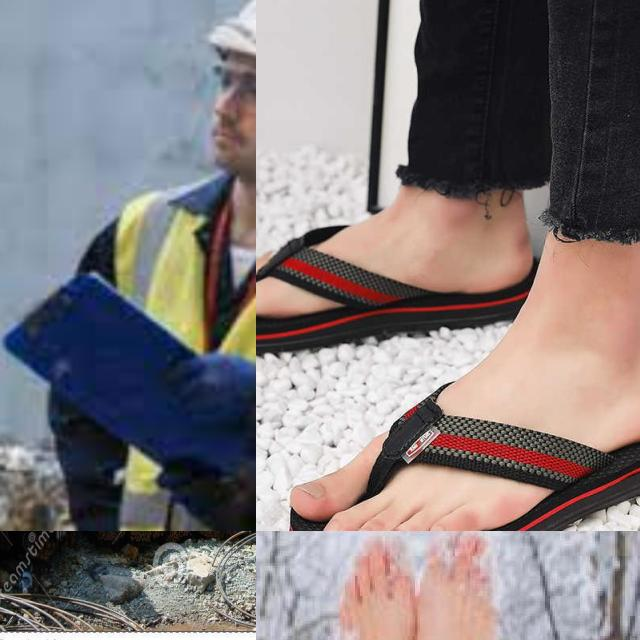Barefoots: (318, 531, 420, 640), (421, 531, 507, 640)
Ear-protection: (206, 55, 256, 173)
Sandals: (276, 339, 640, 531), (256, 195, 534, 344)
